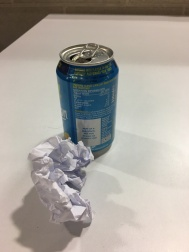can_blue: (49, 42, 135, 168)
paper_white: (18, 135, 106, 233)
